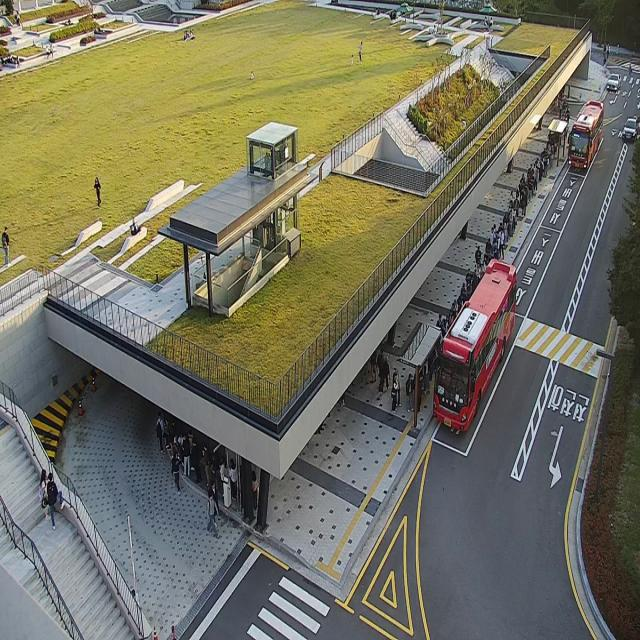queue: (415, 90, 570, 426)
